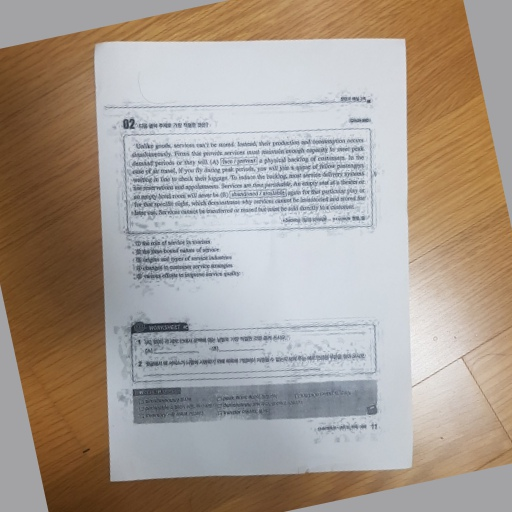Paper_2: (92, 32, 425, 491)
